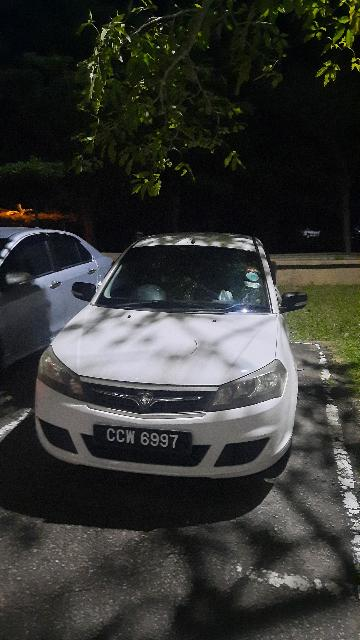License_Plate: (92, 423, 195, 458)
car: (35, 231, 312, 482), (2, 225, 119, 371)
